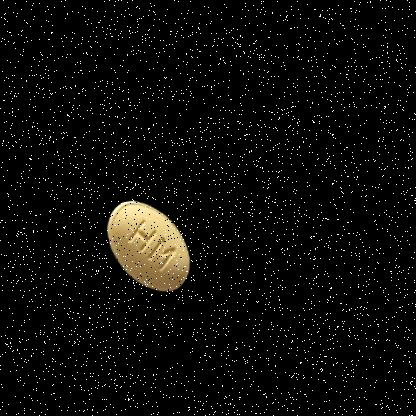tovast10: (81, 172, 220, 336)
